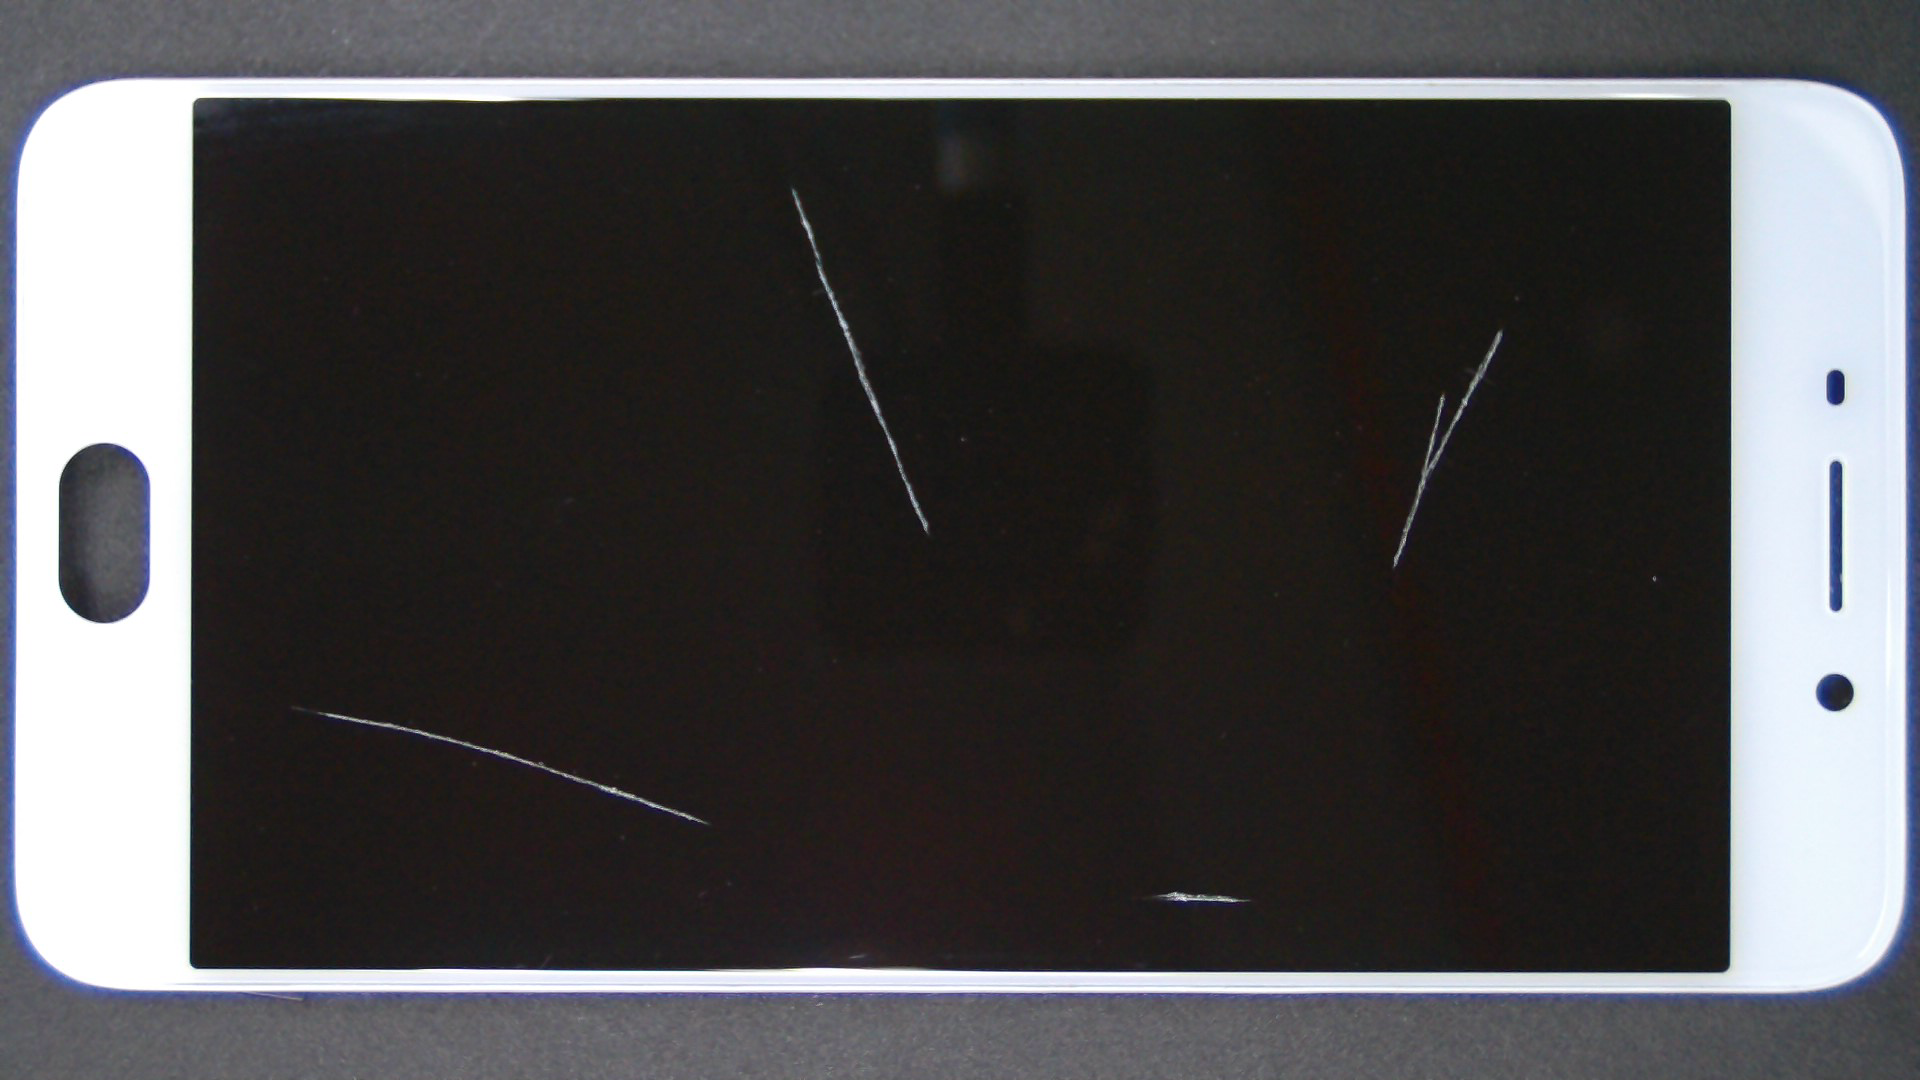defect: (290, 705, 709, 824), (791, 187, 928, 534), (1393, 328, 1503, 568), (1151, 890, 1251, 903)
